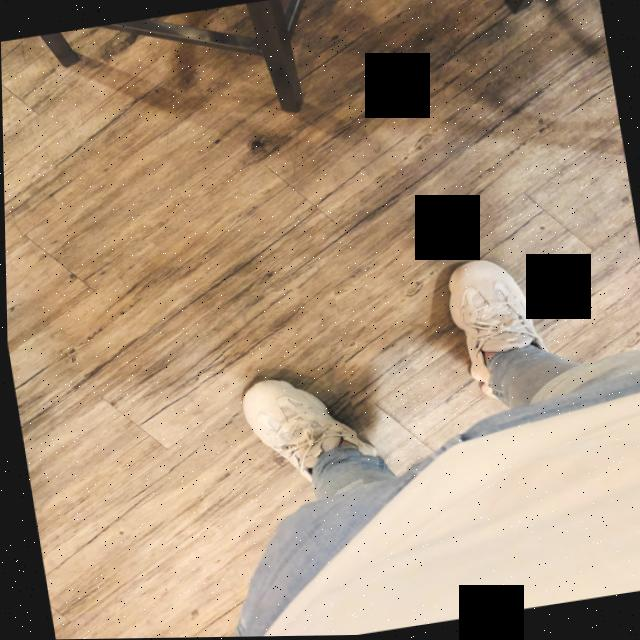shoe: (426, 186, 640, 447), (172, 284, 370, 545)
